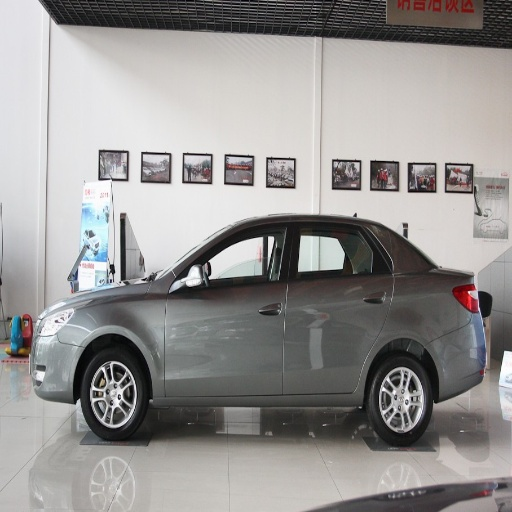back_left_door: (284, 218, 394, 393)
front_glass: (361, 2, 473, 40)
front_left_door: (165, 220, 291, 394)
